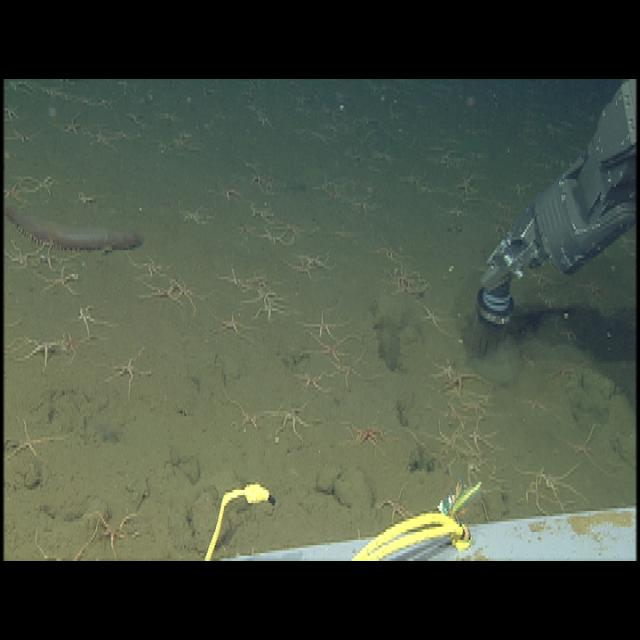Brittle Star: (101, 342, 153, 400), (15, 325, 64, 373), (168, 271, 209, 316), (210, 304, 254, 345)
Not Brittle Star: (479, 152, 632, 302), (4, 197, 148, 260)
